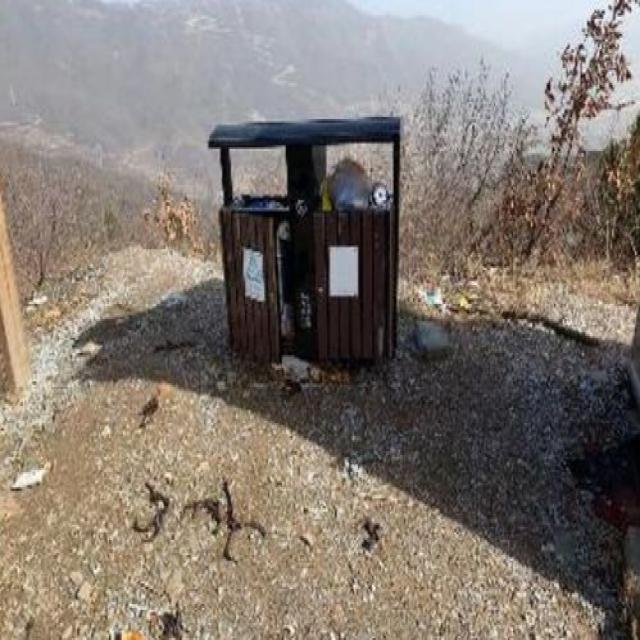overflow: (206, 115, 402, 359)
